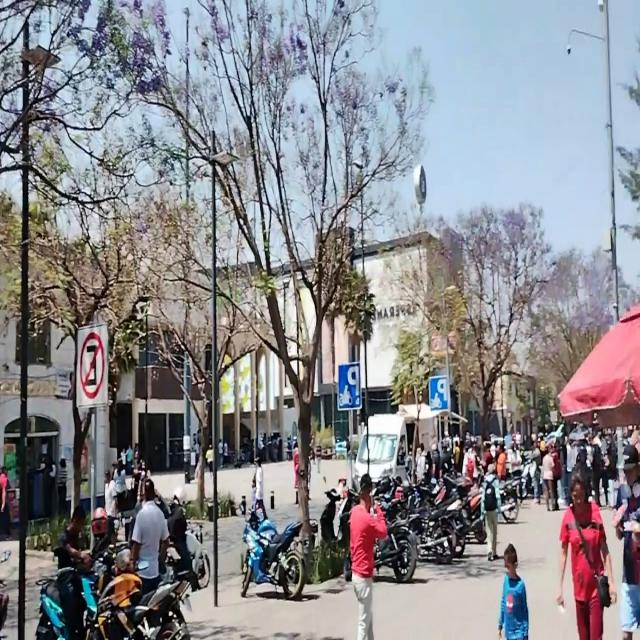adult: (557, 466, 615, 640), (349, 473, 384, 640), (616, 446, 640, 640), (131, 478, 168, 584), (499, 542, 528, 640), (58, 506, 91, 574), (480, 463, 500, 563)
